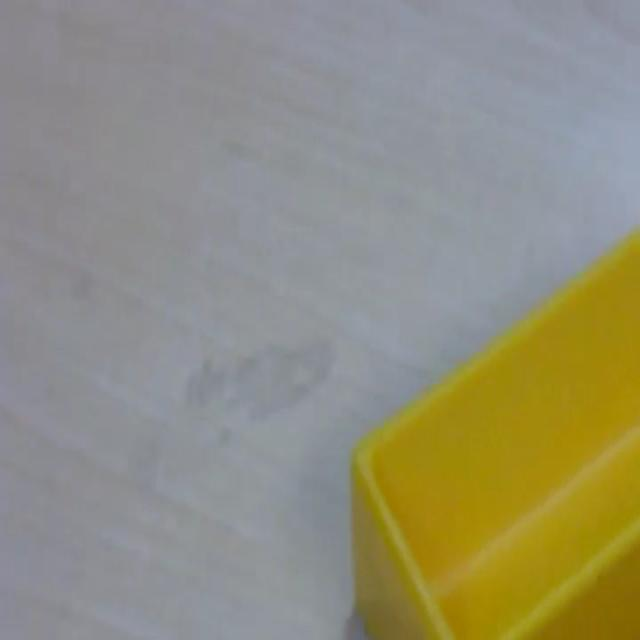yellow_block: (349, 225, 638, 638)
